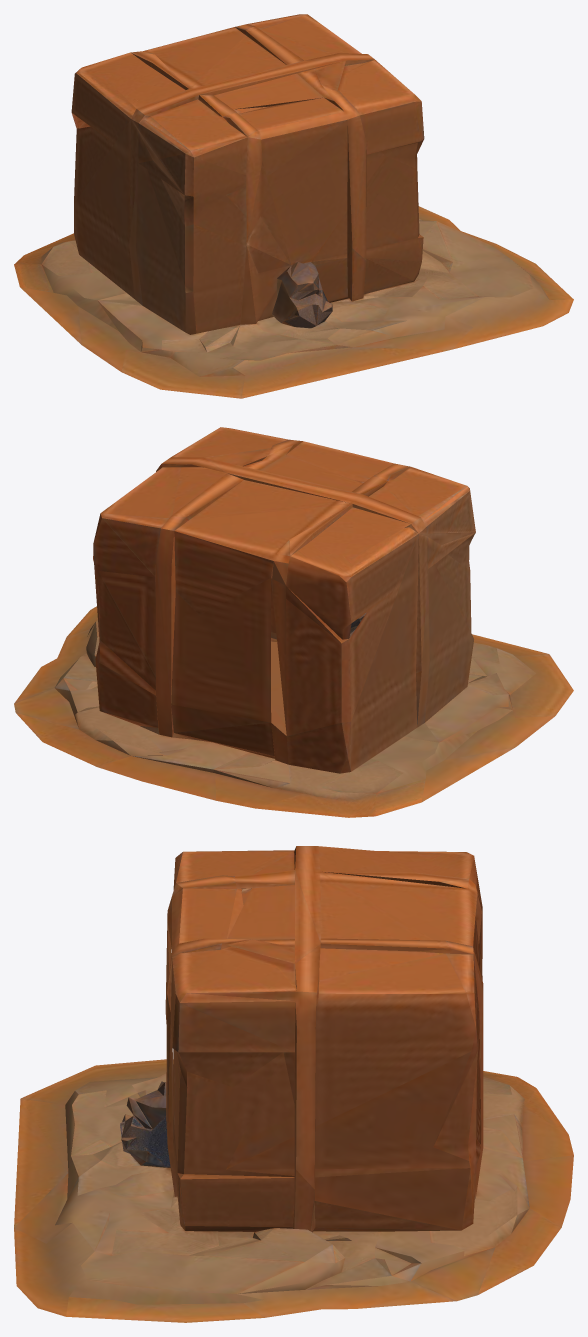
Rendered from west_crate.glb.
3 renders of one model, top to bottom at view 1: azimuth 30°, elevation 25°; view 2: azimuth 150°, elevation 25°; view 3: azimuth 270°, elevation 25°, orthographic. The views are drawn at different scales.
Visible parts, largest first — view 1: mesh_node; view 2: mesh_node; view 3: mesh_node.
Boxes of the visible parts, left/top/right/bottom form: mesh_node: left=14, top=14, right=573, bottom=398; mesh_node: left=14, top=427, right=573, bottom=817; mesh_node: left=14, top=846, right=573, bottom=1322.
Bounding box in the file's own units: 1.89 × 0.8967 × 1.69.
Materials: 1 (1 with a texture image).
